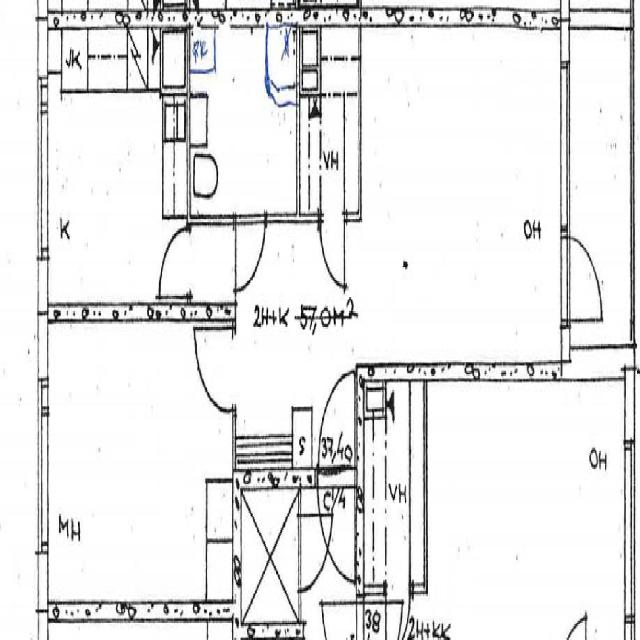door: (317, 373, 355, 488), (317, 468, 355, 583), (561, 236, 604, 327), (199, 328, 236, 412), (236, 217, 265, 296), (160, 229, 190, 298), (320, 217, 344, 284)
